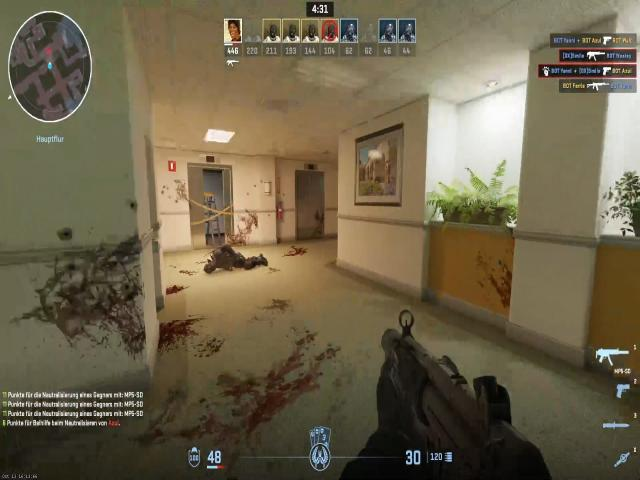Dead: (198, 239, 269, 290)
